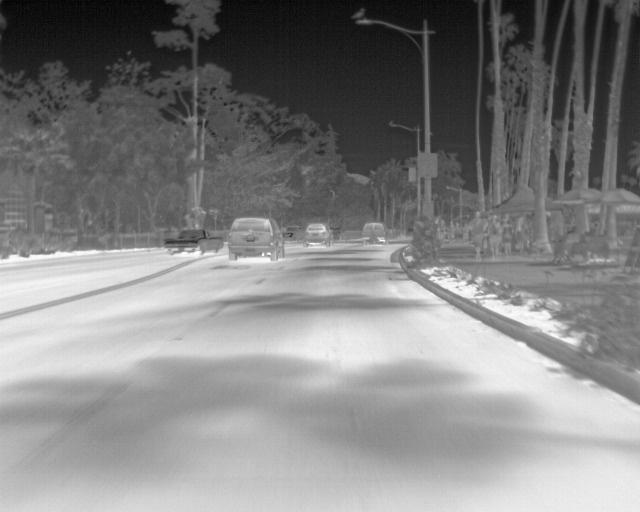bicycle: (222, 214, 286, 261), (163, 225, 223, 256), (303, 221, 334, 247), (361, 221, 389, 244)
empty: (467, 211, 487, 263), (485, 211, 501, 257), (499, 211, 514, 256)
